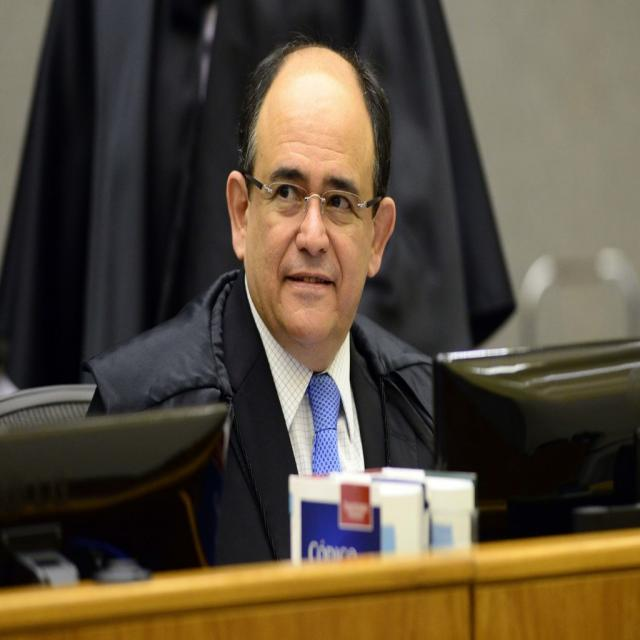Glasses: (242, 171, 387, 219)
